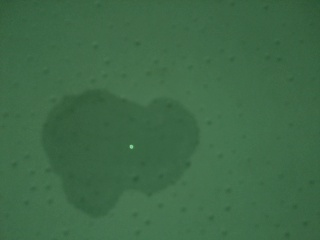Water_detected: (64, 106, 180, 199)
